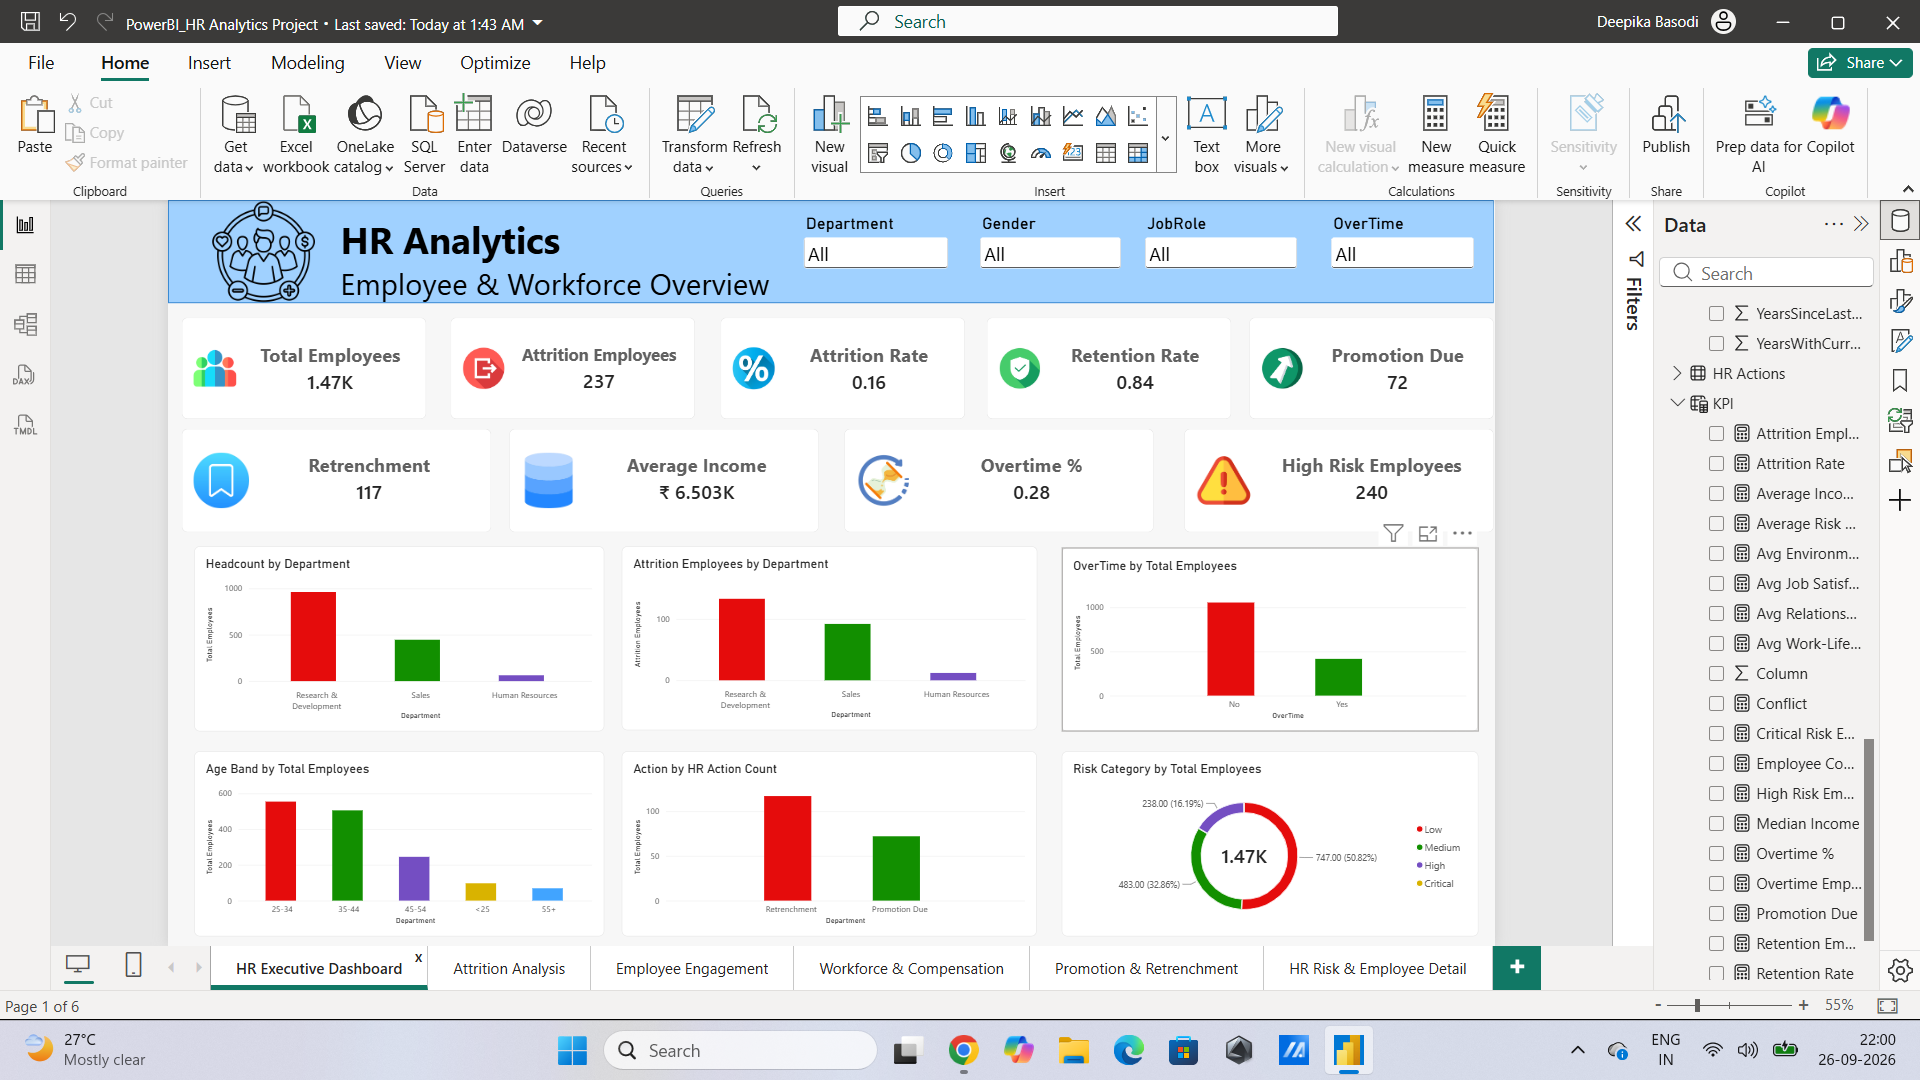

Layout of this report page (visuals, bound fields, positions):
{"tool":"powerbi","page":{"name":"HR Executive Dashboard","canvas":[1920,1080],"ordinal":0},"visuals":[{"type":"shape","box":[0,0,1919.6,149.3],"z":0},{"type":"slicer","fields":{"Values":["HR.Department"]},"box":[915.7,19.9,219,110.4],"z":1000},{"type":"slicer","fields":{"Values":["HR.Gender"]},"box":[1170.9,19.9,213.5,95.9],"z":2000},{"type":"slicer","fields":{"Values":["HR.JobRole"]},"box":[1409.7,19.9,229.8,110.4],"z":3000},{"type":"slicer","fields":{"Values":["HR.OverTime"]},"box":[1679.4,19.5,216.4,114.7],"z":4000},{"type":"image","box":[0,0,277,149.3],"z":5000},{"type":"textbox","box":[248.9,19.5,644.9,129.8],"z":6000},{"type":"cardVisual","fields":{"Data":["KPI.Total Employees"]},"box":[19.5,171,354.9,147.2],"z":7000},{"type":"cardVisual","fields":{"Data":["KPI.Attrition Employees"]},"box":[409,171,354.9,147.2],"z":8000},{"type":"cardVisual","fields":{"Data":["KPI.Attrition Rate"]},"box":[800.7,171,354.9,147.2],"z":9000},{"type":"cardVisual","fields":{"Data":["KPI.Retention Rate"]},"box":[1185.9,171,354.9,147.2],"z":10000},{"type":"cardVisual","fields":{"Data":["KPI.Promotion Due"]},"box":[1564.7,171,354.9,147.2],"z":11000},{"type":"cardVisual","fields":{"Data":["KPI.Retrenchment Employees"]},"box":[19.9,331.2,448.8,150.2],"z":12000},{"type":"cardVisual","fields":{"Data":["KPI.Average Income"]},"box":[494,331.2,448.8,150.2],"z":13000},{"type":"cardVisual","fields":{"Data":["KPI.Overtime %"]},"box":[979,331.2,448.8,150.2],"z":14000},{"type":"cardVisual","fields":{"Data":["KPI.High Risk Employees"]},"box":[1471.3,331.2,448.8,150.2],"z":15000},{"type":"clusteredColumnChart","title":"Headcount by Department","fields":{"Category":["HR.Department"],"Y":["KPI.Total Employees"]},"box":[38,501.3,593.6,267.8],"z":16000},{"type":"clusteredColumnChart","fields":{"Category":["HR.Department"],"Y":["KPI.Attrition Employees"]},"box":[657.1,501.3,601.6,266.7],"z":17000},{"type":"clusteredColumnChart","title":"OverTime by Total Employees","fields":{"Category":["HR.OverTime"],"Y":["KPI.Total Employees"]},"box":[1293.9,503.1,602.6,266],"z":18000},{"type":"clusteredColumnChart","title":"Age Band by Total Employees","fields":{"Category":["HR.Age Band"],"Y":["KPI.Total Employees"]},"box":[38,798.1,593.6,267.8],"z":19000},{"type":"clusteredColumnChart","title":"Action by HR Action Count","fields":{"Category":["HR Actions.Action"],"Y":["HR Actions.HR Action Count"]},"box":[656.9,798.1,600.8,267.8],"z":20000},{"type":"donutChart","title":"Risk Category by Total Employees","fields":{"Category":["HR.Risk Category"],"Y":["KPI.Total Employees"]},"box":[1294,798,603,268],"z":21000}]}

Visuals, with their boxes on the page's 1920x1080 design canvas (x1, y1, x2, y2). These are canvas units, not pixel positions in the 1920x1080 screenshot, which may show the page scaled, cropped or inside an application window:
shape: bbox(0, 0, 1920, 149)
slicer - HR.Department: bbox(916, 20, 1135, 130)
slicer - HR.Gender: bbox(1171, 20, 1384, 116)
slicer - HR.JobRole: bbox(1410, 20, 1640, 130)
slicer - HR.OverTime: bbox(1679, 20, 1896, 134)
image: bbox(0, 0, 277, 149)
textbox: bbox(249, 20, 894, 149)
cardVisual - KPI.Total Employees: bbox(20, 171, 374, 318)
cardVisual - KPI.Attrition Employees: bbox(409, 171, 764, 318)
cardVisual - KPI.Attrition Rate: bbox(801, 171, 1156, 318)
cardVisual - KPI.Retention Rate: bbox(1186, 171, 1541, 318)
cardVisual - KPI.Promotion Due: bbox(1565, 171, 1920, 318)
cardVisual - KPI.Retrenchment Employees: bbox(20, 331, 469, 481)
cardVisual - KPI.Average Income: bbox(494, 331, 943, 481)
cardVisual - KPI.Overtime %: bbox(979, 331, 1428, 481)
cardVisual - KPI.High Risk Employees: bbox(1471, 331, 1920, 481)
"Headcount by Department" clusteredColumnChart: bbox(38, 501, 632, 769)
clusteredColumnChart - HR.Department x KPI.Attrition Employees: bbox(657, 501, 1259, 768)
"OverTime by Total Employees" clusteredColumnChart: bbox(1294, 503, 1896, 769)
"Age Band by Total Employees" clusteredColumnChart: bbox(38, 798, 632, 1066)
"Action by HR Action Count" clusteredColumnChart: bbox(657, 798, 1258, 1066)
"Risk Category by Total Employees" donutChart: bbox(1294, 798, 1897, 1066)
